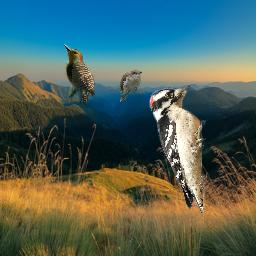Cuckoo: (119, 69, 142, 102)
Woodpecker: (149, 85, 206, 214), (63, 44, 95, 106)
